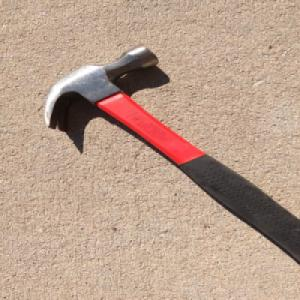Hammer: (42, 42, 300, 264)
